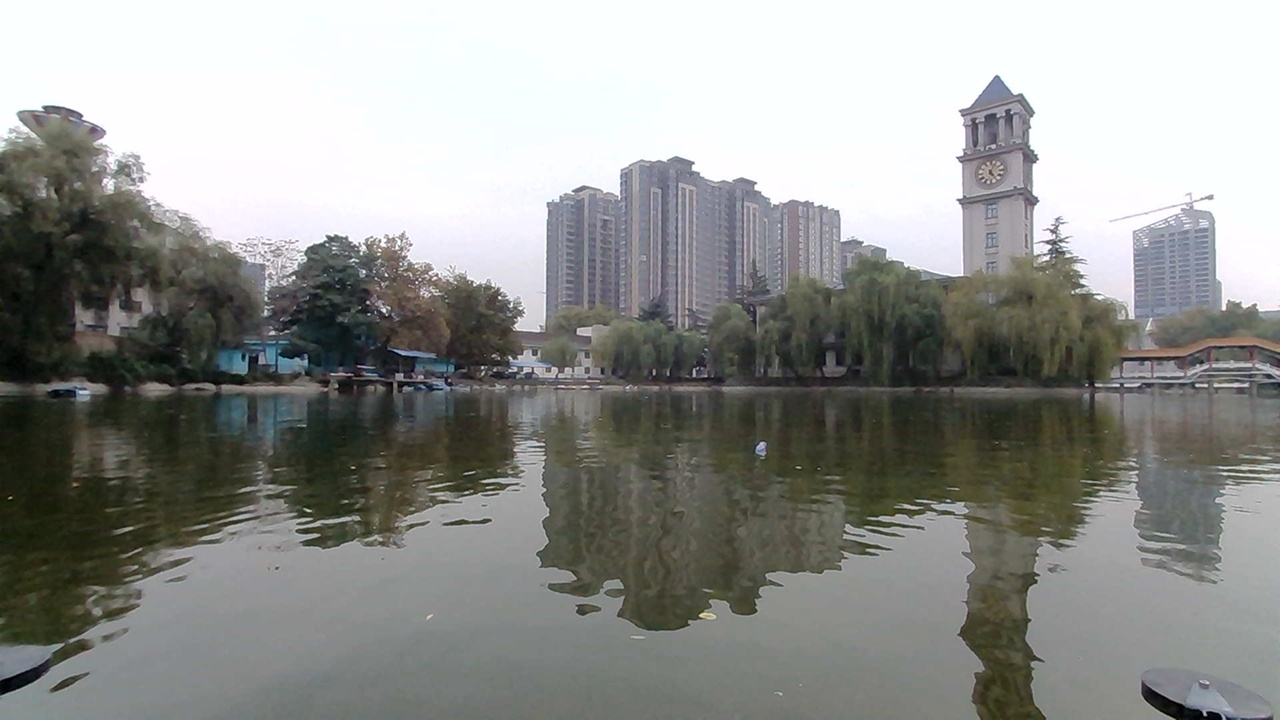bottle: (738, 434, 787, 466)
